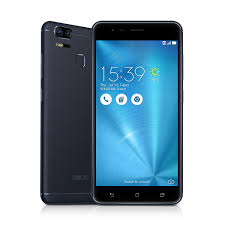asus: (86, 16, 184, 207), (38, 17, 92, 208)
